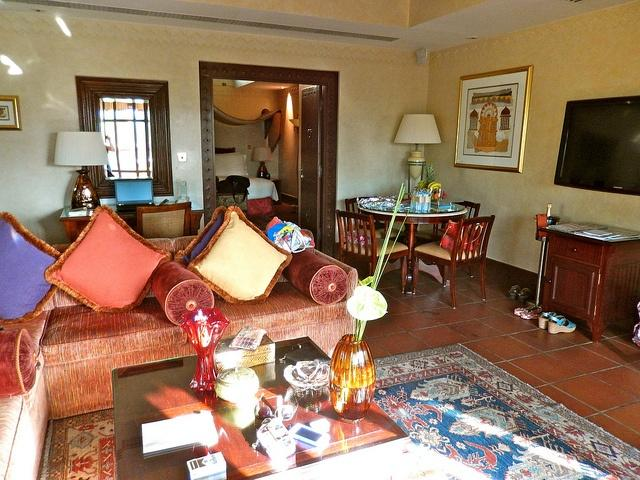AIO PC-Monitor-TV: (551, 92, 639, 197)
Kursi: (411, 213, 495, 309), (335, 208, 407, 293)
Meja: (111, 335, 410, 479)
